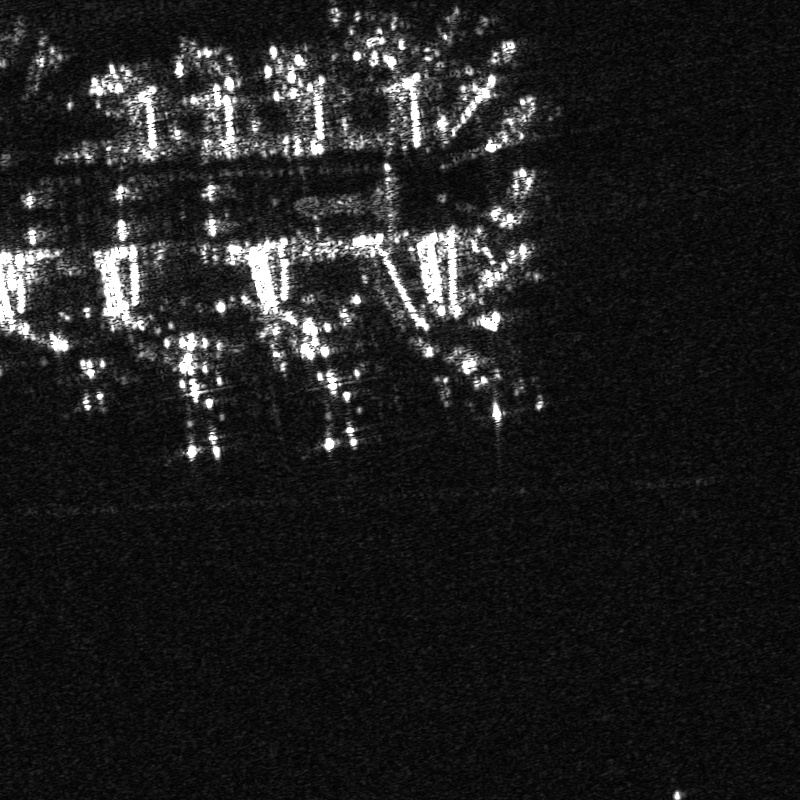Boeing737: (430, 338, 518, 435)
Boeing787: (138, 374, 244, 464)
other: (288, 362, 388, 459)
